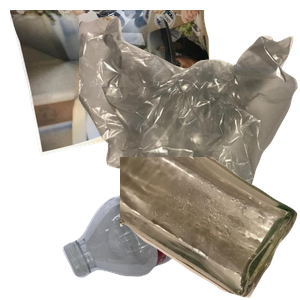glass: (120, 157, 300, 300)
paper: (10, 10, 233, 158)
plastic: (60, 190, 300, 280)
trash: (79, 14, 300, 194)
